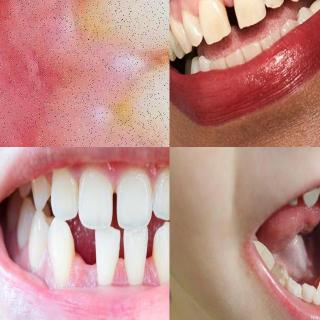maligned: (300, 185, 318, 210), (312, 278, 320, 306)
